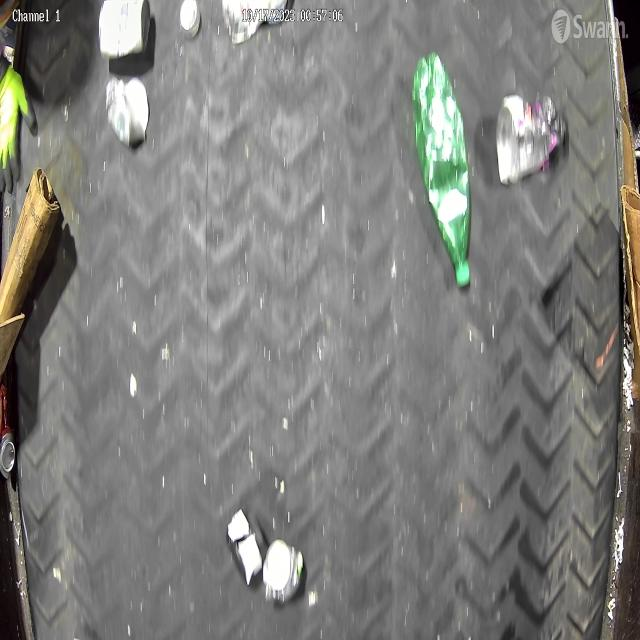can: (104, 75, 150, 149), (98, 0, 152, 58), (261, 539, 304, 607), (0, 384, 17, 479)
